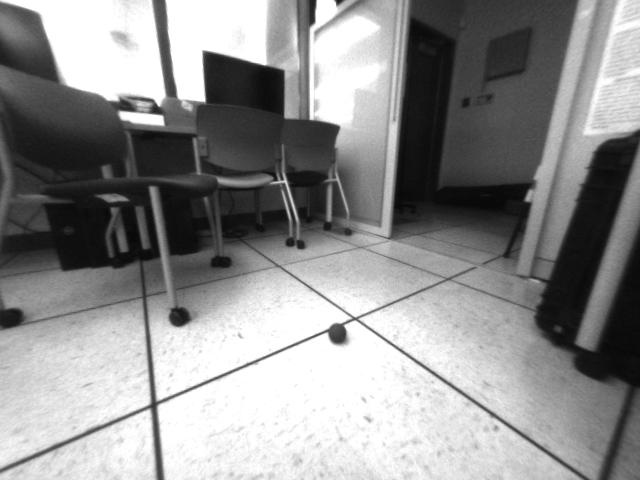dogtoy: (323, 318, 355, 348)
